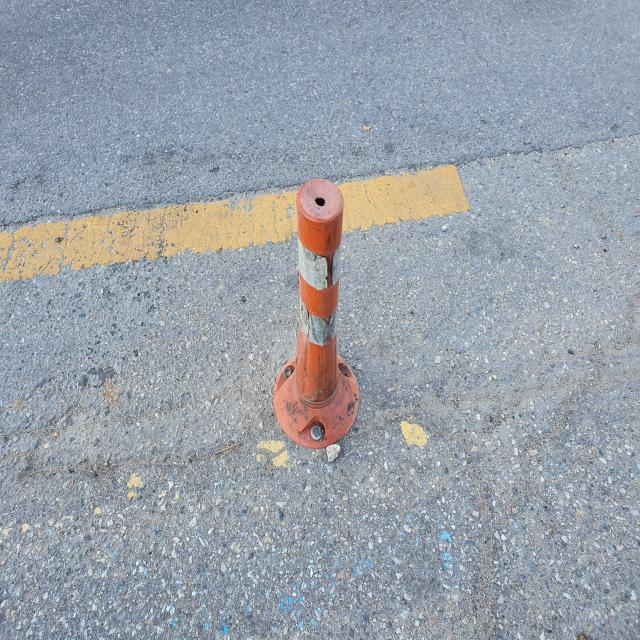pole: (278, 176, 358, 448)
